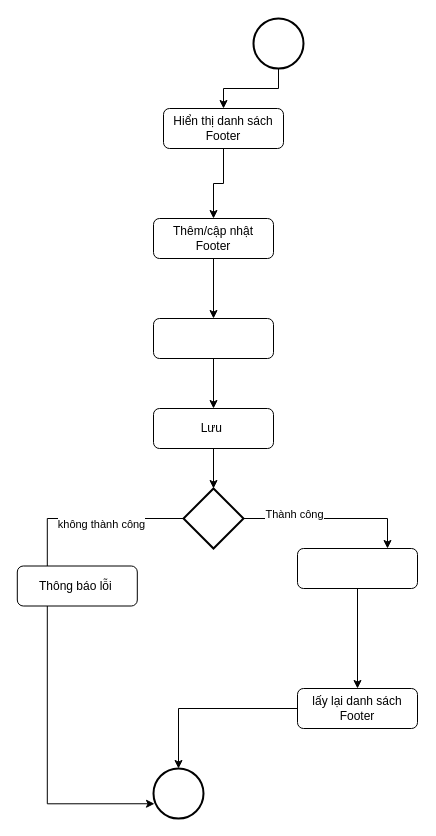
The diagram is 436 pixels wide and 836 high, and some of its shapes have lost their labels. The shapes that lost their labels are listed below. From the top down, each one's box as (x1, y1, x2, y2) in pixels, then its label:
(152, 318, 274, 358): Nhập dữ liệu
(296, 548, 418, 588): Thông báo thành công
